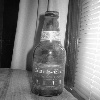beer: (32, 7, 66, 99)
